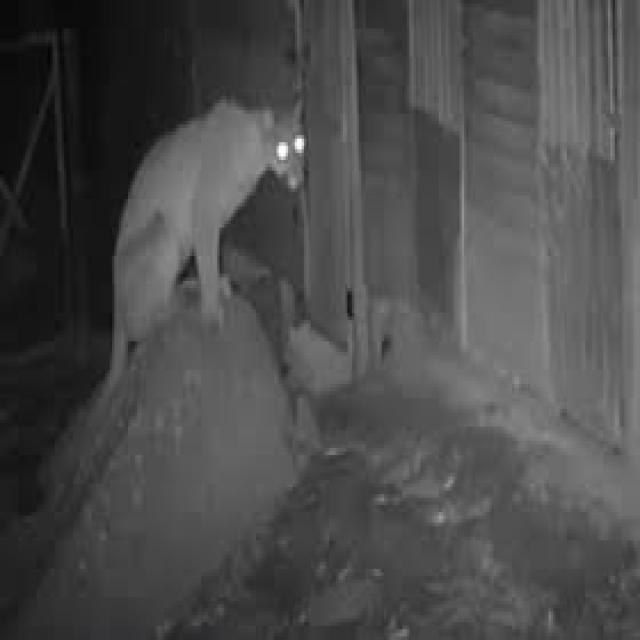Jaguar: (103, 92, 313, 342)
